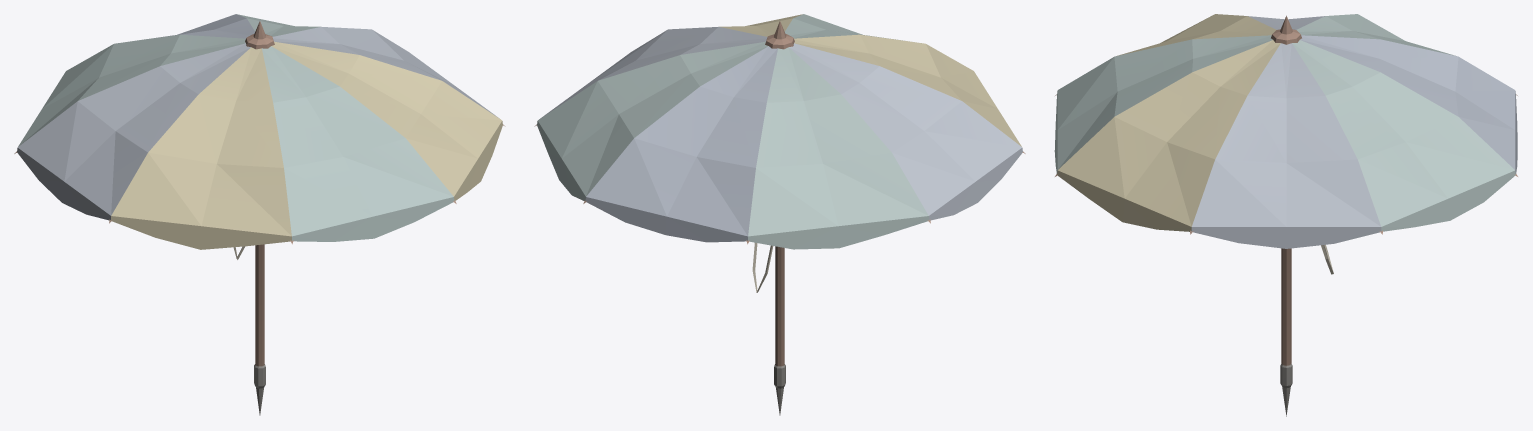
File: parasol.glb
The picture shows the model from 3 angles, left to right: view 1: azimuth 30°, elevation 25°; view 2: azimuth 150°, elevation 25°; view 3: azimuth 270°, elevation 25°; orthographic projection.
Parts seen in each view (by area): view 1: parasol; view 2: parasol; view 3: parasol.
Boxes of the visible parts, x1=… form: parasol: x1=14, y1=14, x2=505, y2=415; parasol: x1=534, y1=14, x2=1025, y2=415; parasol: x1=1054, y1=14, x2=1517, y2=416.
Bounding box in the file's own units: 2.2 × 2.1 × 2.2.
